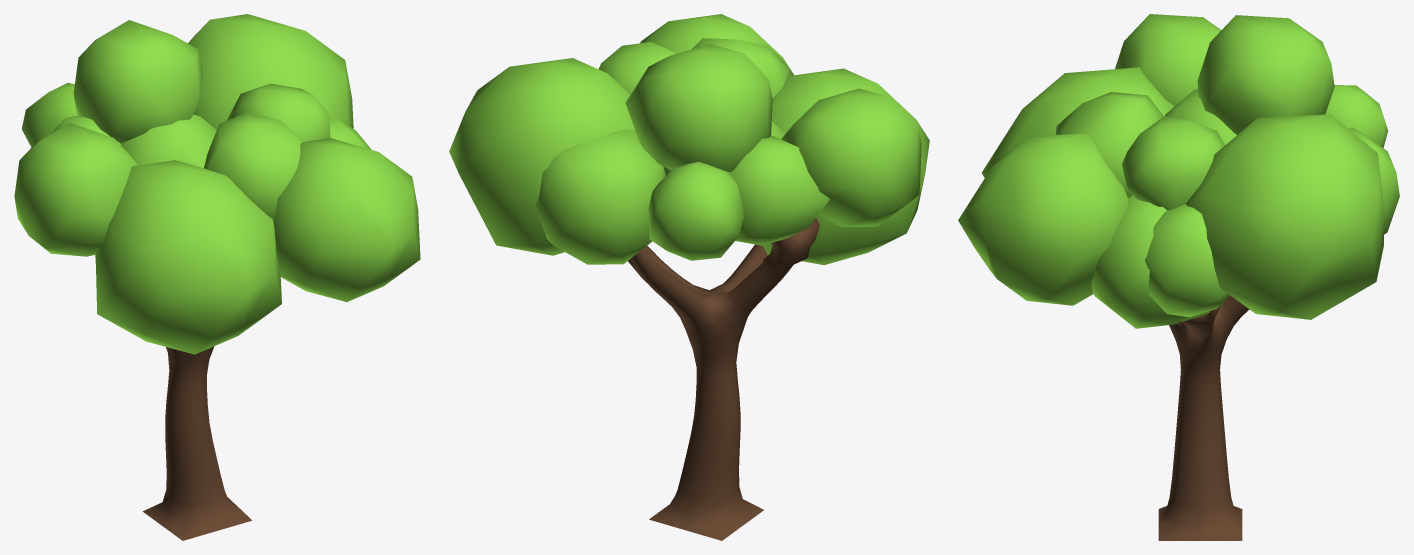
The model's file is tree1.glb.
3 renders of one model, left to right at view 1: azimuth 30°, elevation 25°; view 2: azimuth 150°, elevation 25°; view 3: azimuth 270°, elevation 25°, orthographic. The views are drawn at different scales.
Parts seen in each view (by area): view 1: Plane; view 2: Plane; view 3: Plane.
Boxes of the visible parts, x1,y1,x2,y2 form: Plane: (14,14,420,540); Plane: (449,14,929,540); Plane: (958,14,1399,540).
Size of the model in its own units: 6.3 by 7.68 by 6.3.
1 material, 1 textured.
